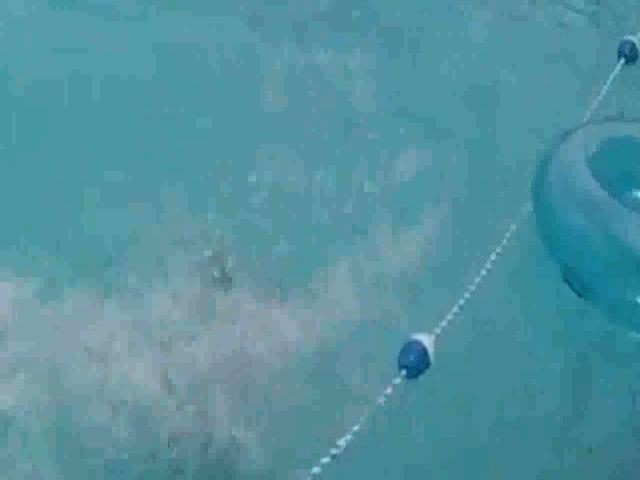drowning: (150, 246, 294, 446)
